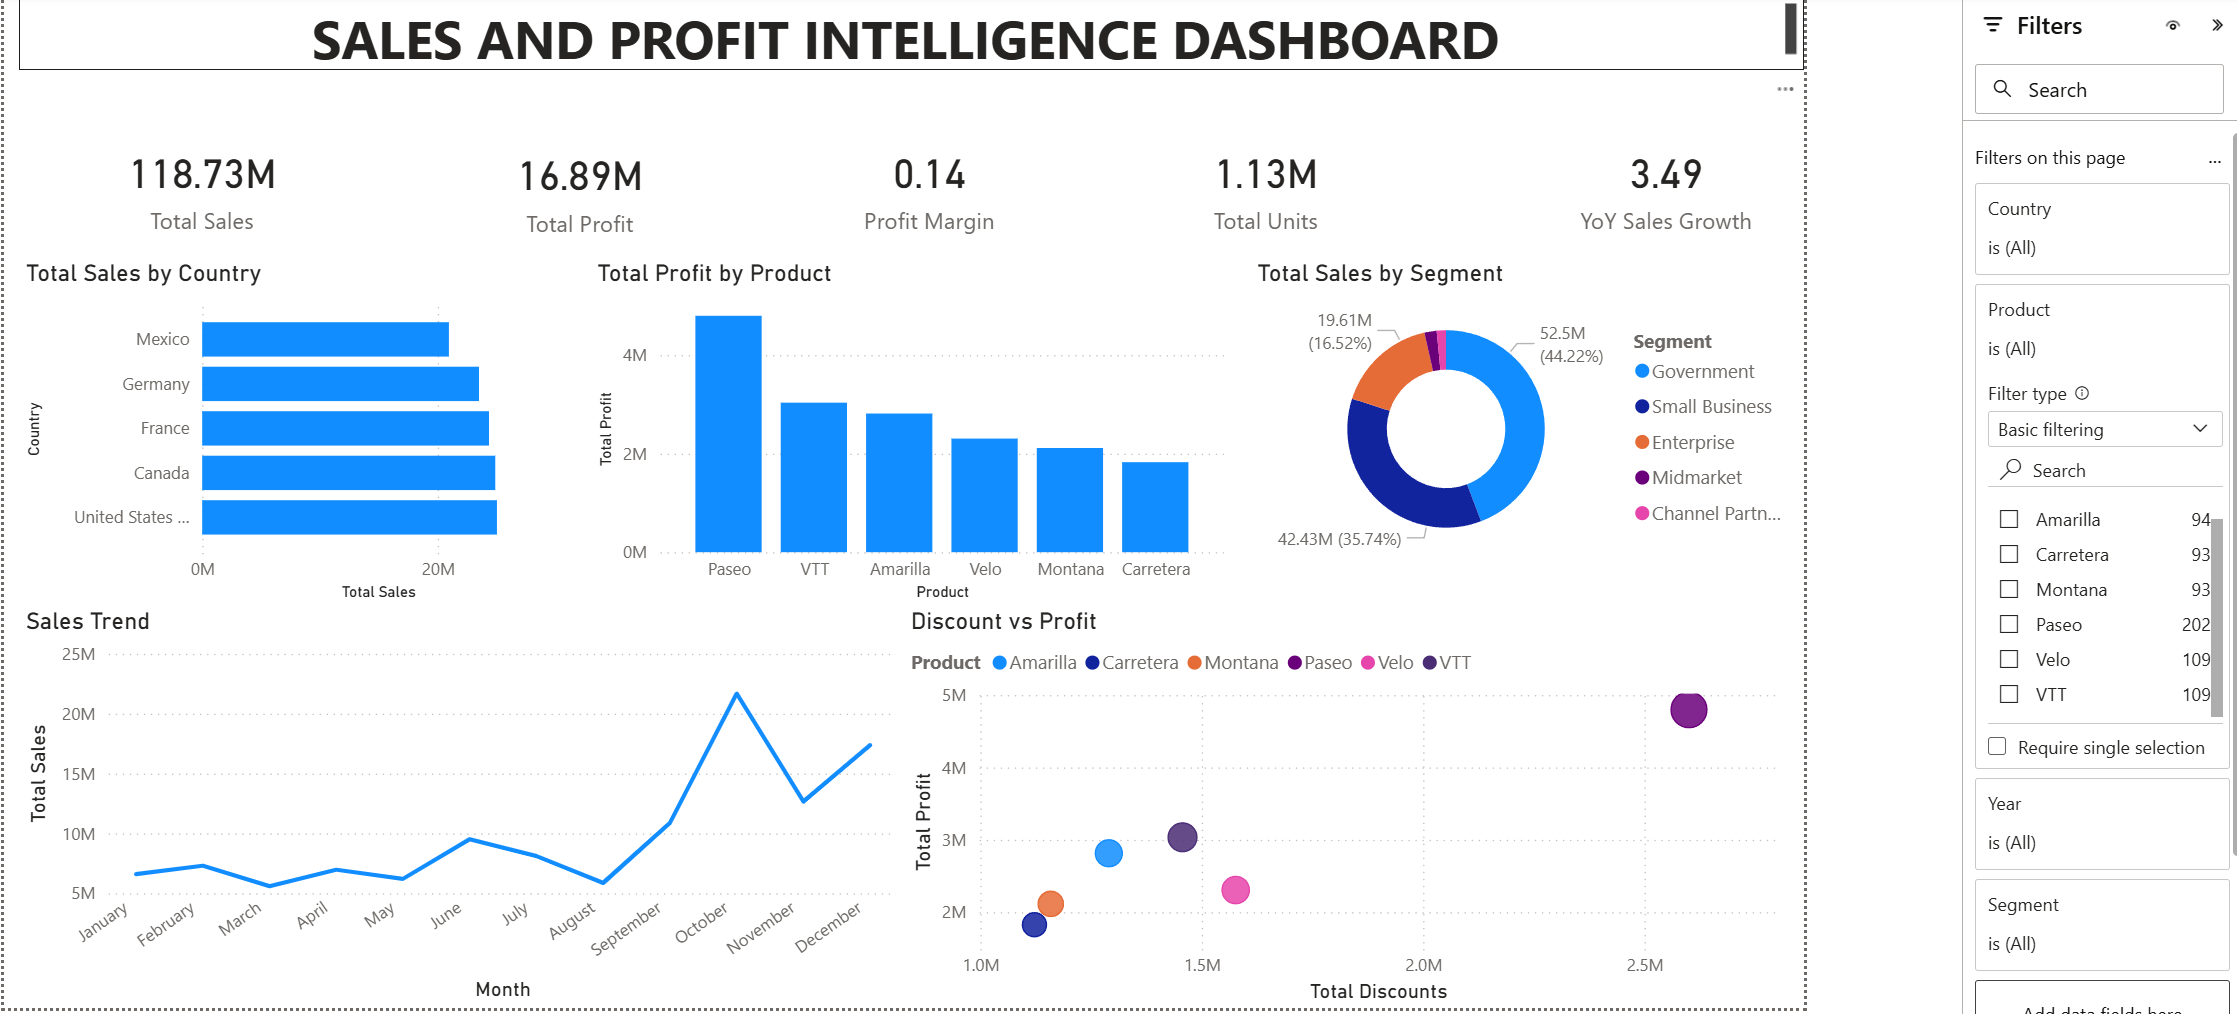

The dashboard page shown, as its layout file describes it:
{"tool":"powerbi","page":{"name":"Page 1","canvas":[1280,720],"ordinal":0},"visuals":[{"type":"textbox","box":[10.4,0,1270,52.1],"z":0},{"type":"card","fields":{"Values":["financials.Total Sales"]},"box":[0,86.1,281.1,96.9],"z":1},{"type":"card","fields":{"Values":["financials.Total Profit"]},"box":[281.1,86.1,257.2,100.5],"z":2},{"type":"card","fields":{"Values":["financials.Total Units"]},"box":[778.8,86.1,236.9,96.9],"z":3},{"type":"card","fields":{"Values":["financials.Profit Margin"]},"box":[538.3,86.1,240.4,96.9],"z":4},{"type":"barChart","fields":{"Category":["financials.Country"],"Y":["financials.Total Sales"]},"box":[10.8,186.6,398.4,247.6],"z":6},{"type":"columnChart","fields":{"Category":["financials.Product"],"Y":["financials.Total Profit"]},"box":[417.5,186.6,455.8,247.6],"z":7},{"type":"donutChart","fields":{"Category":["financials.Segment"],"Y":["financials.Total Sales"]},"box":[886.4,186.6,393.6,222.5],"z":8},{"type":"lineChart","title":"Sales Trend","fields":{"Category":["financials.Date.Variation.Date Hierarchy.Month"],"Y":["financials.Total Sales"]},"box":[10.8,434.2,629.2,284.7],"z":9},{"type":"scatterChart","title":"Discount vs Profit","fields":{"X":["financials.Total Discounts"],"Y":["financials.Total Profit"],"Size":["financials.Total Sales"],"Series":["financials.Product"]},"box":[640,434.2,640,285.9],"z":10},{"type":"card","fields":{"Values":["financials.YoY Sales Growth"]},"box":[1083.8,86.1,196.2,96.9],"z":12}]}

Visuals, with their boxes on the page's 1280x720 design canvas (x1, y1, x2, y2). These are canvas units, not pixel positions in the 2237x1014 screenshot, which may show the page scaled, cropped or inside an application window:
textbox: [left=10, top=0, right=1280, bottom=52]
card - financials.Total Sales: [left=0, top=86, right=281, bottom=183]
card - financials.Total Profit: [left=281, top=86, right=538, bottom=187]
card - financials.Total Units: [left=779, top=86, right=1016, bottom=183]
card - financials.Profit Margin: [left=538, top=86, right=779, bottom=183]
barChart - financials.Country x financials.Total Sales: [left=11, top=187, right=409, bottom=434]
columnChart - financials.Product x financials.Total Profit: [left=418, top=187, right=873, bottom=434]
donutChart - financials.Segment x financials.Total Sales: [left=886, top=187, right=1280, bottom=409]
"Sales Trend" lineChart: [left=11, top=434, right=640, bottom=719]
"Discount vs Profit" scatterChart: [left=640, top=434, right=1280, bottom=720]
card - financials.YoY Sales Growth: [left=1084, top=86, right=1280, bottom=183]
